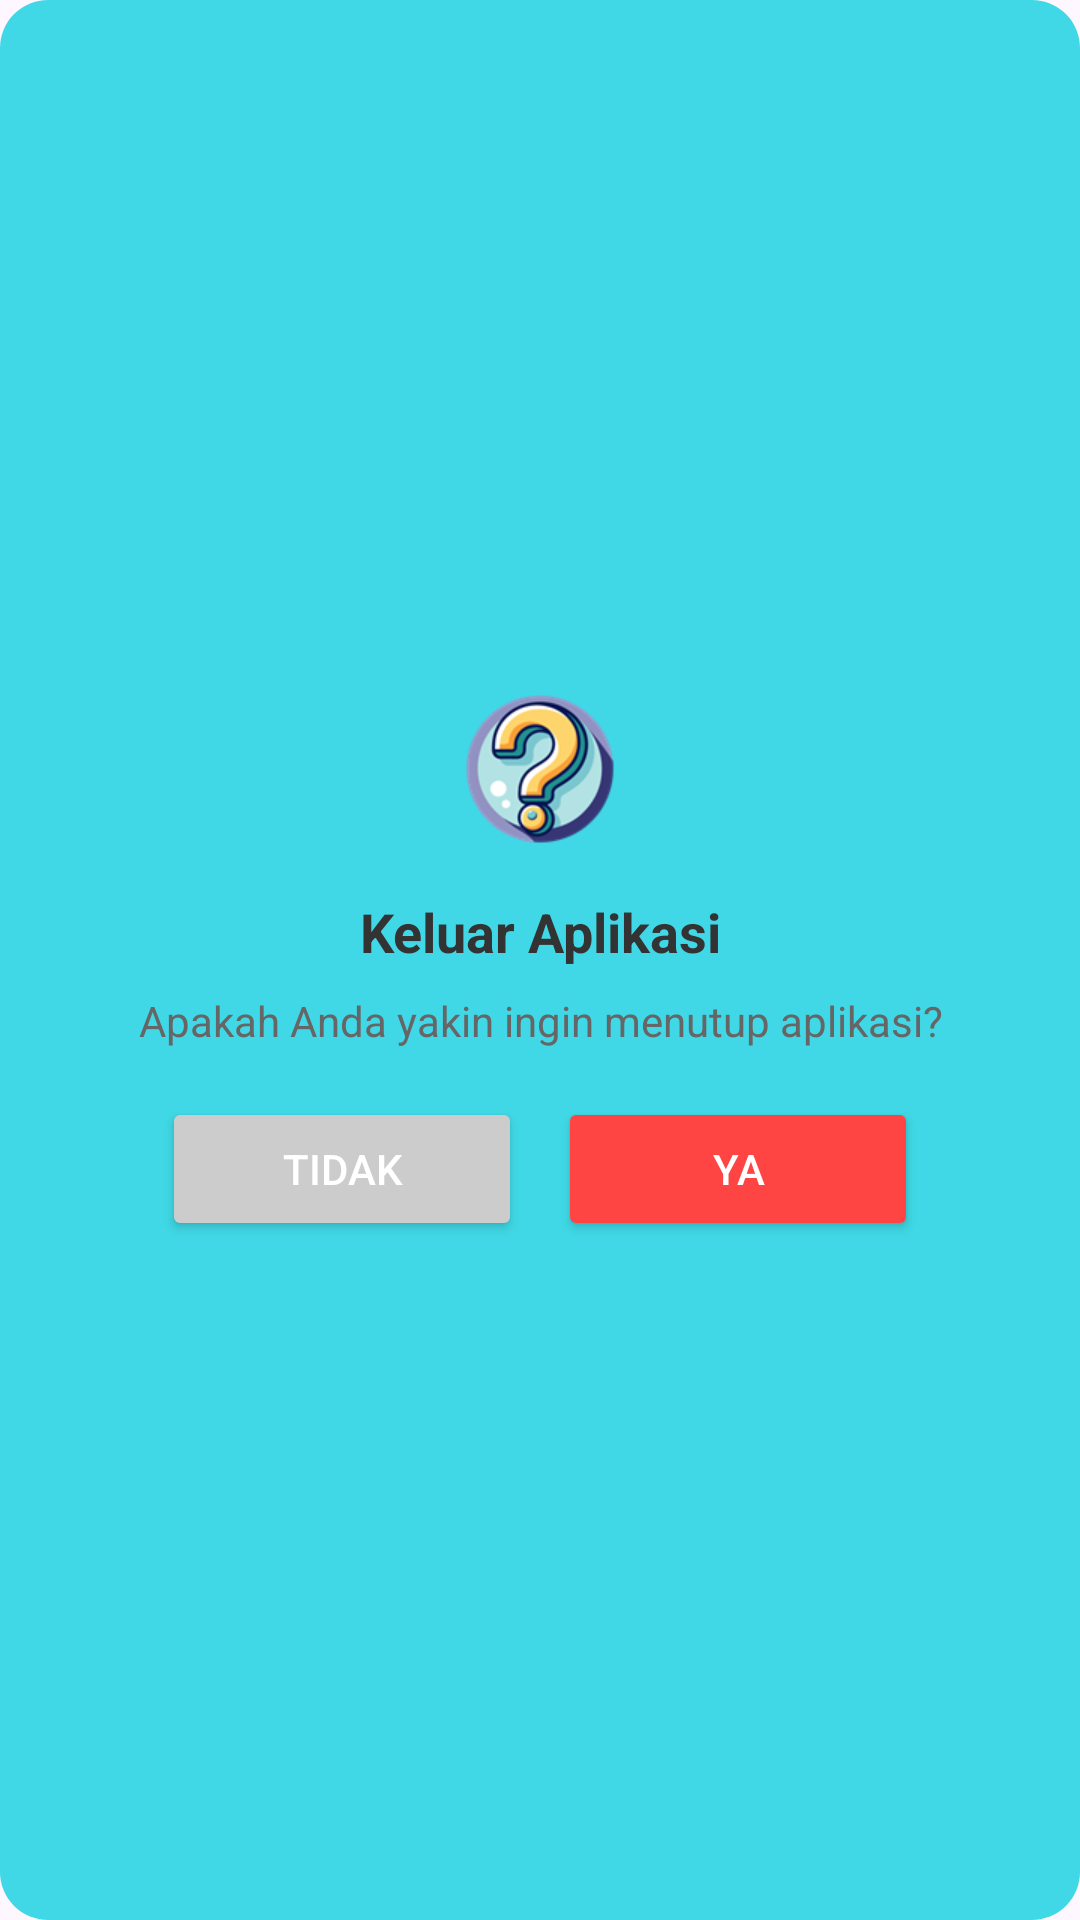

Point at icon controls on the screen. Image size 1080×1920, points as (x=x, y=y).
question: (x=540, y=769)
